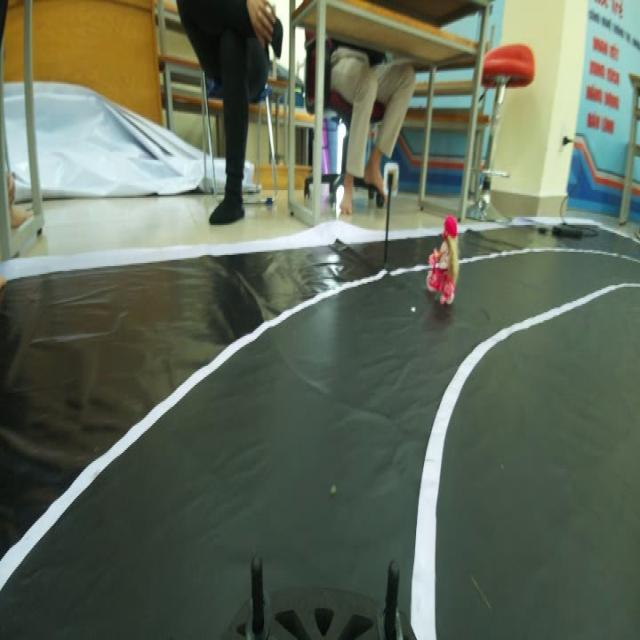pedestrian: (423, 210, 460, 316)
